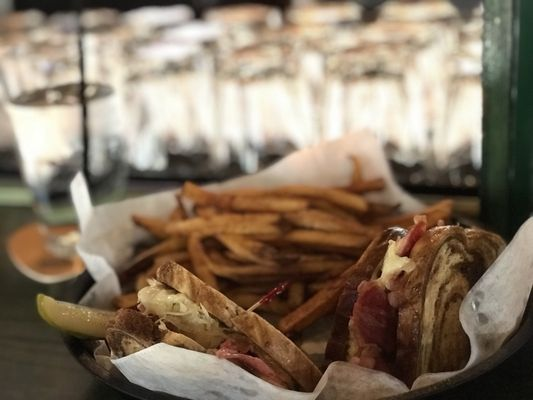soup: (103, 259, 323, 397)
